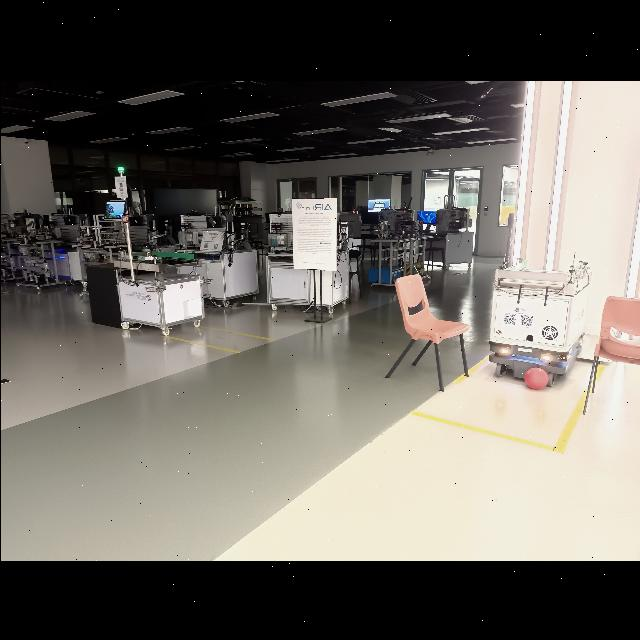R: (523, 367, 547, 389)
